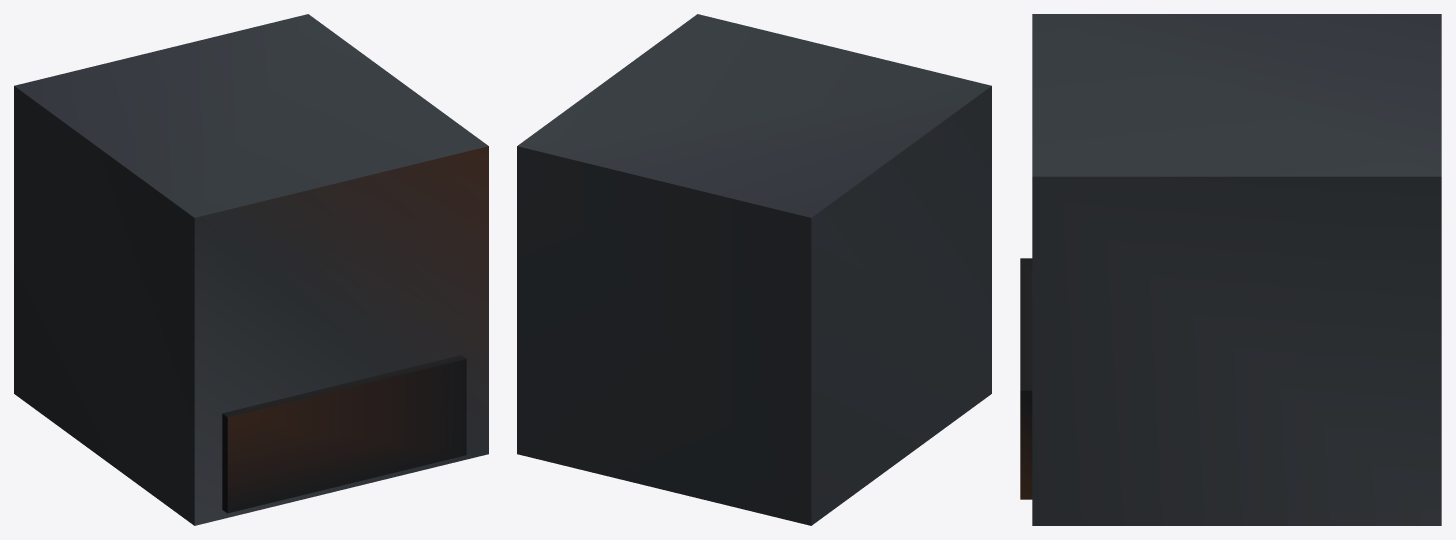
File: vent.glb
3 views of the same model, side by side, from view 1: azimuth 30°, elevation 25°; view 2: azimuth 150°, elevation 25°; view 3: azimuth 270°, elevation 25° (orthographic). The views are drawn at different scales.
Parts seen in each view (by area): view 1: vent; view 2: vent; view 3: vent.
Boxes of the visible parts, box(x1,y1,x2,y2) form: vent: box(14, 14, 488, 525); vent: box(517, 14, 991, 525); vent: box(1020, 14, 1441, 525).
Bounding box in the file's own units: 32 × 32 × 35.
